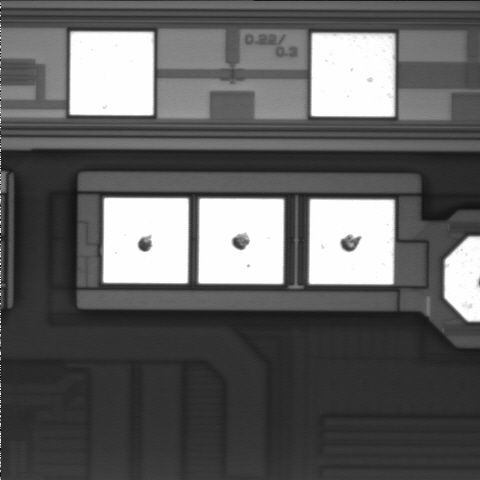pad: (199, 198, 284, 284), (103, 198, 188, 283), (309, 199, 394, 284), (70, 32, 154, 115), (311, 33, 395, 116)
